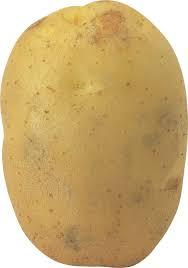non-mango: (0, 0, 187, 267)
